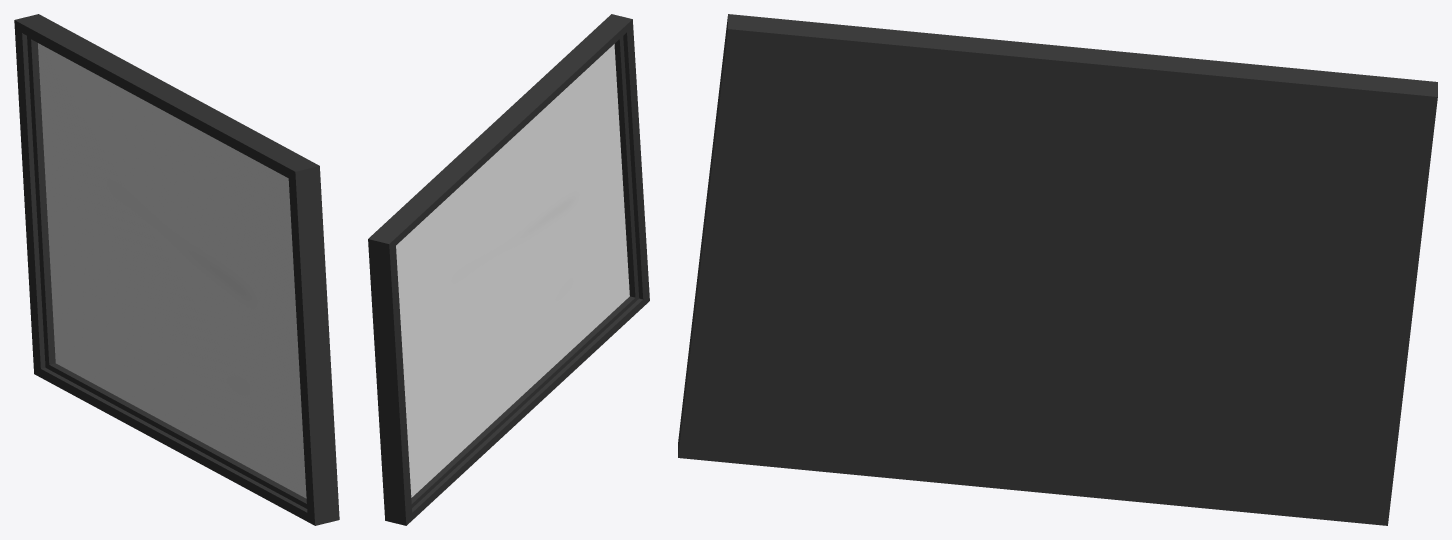
Rendered from Whiteboard.fbx.
3 renders of one model, left to right at view 1: azimuth 30°, elevation 25°; view 2: azimuth 150°, elevation 25°; view 3: azimuth 270°, elevation 25°, orthographic. The views are drawn at different scales.
Visible parts, largest first — view 1: Cardboard; view 2: Cardboard; view 3: Cardboard.
Part boxes in pixels (<box>): Cardboard: <box>14,14,339,525</box>; Cardboard: <box>368,14,649,525</box>; Cardboard: <box>678,14,1437,525</box>.
Size of the model in its own units: 7.5 by 115 by 160.
